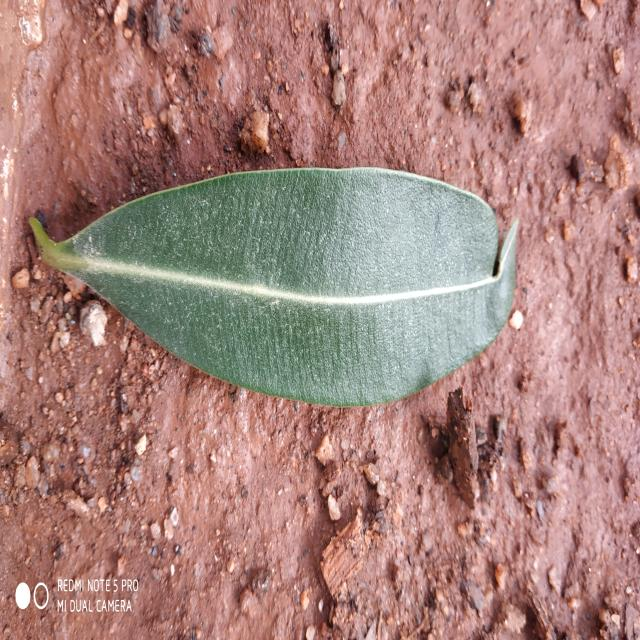ganigale: (30, 169, 518, 407)
